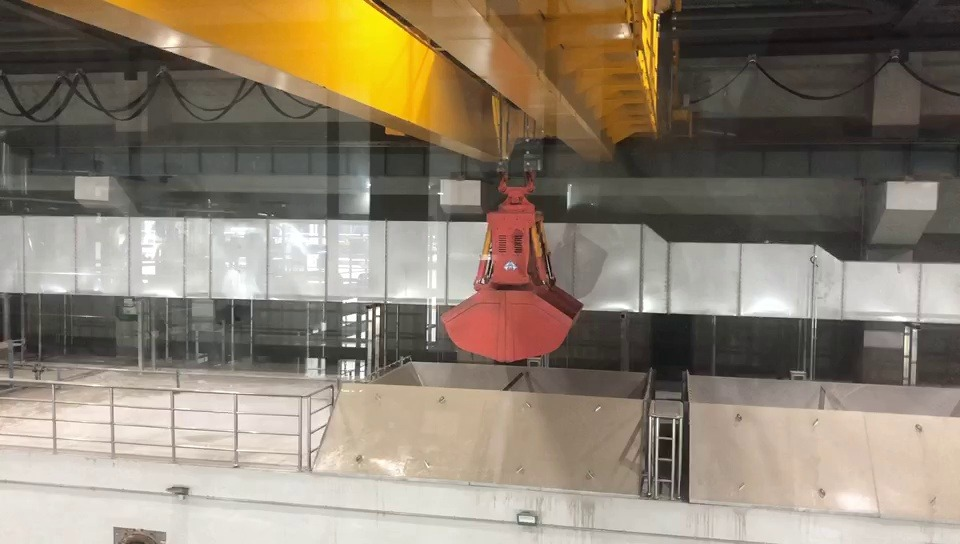grab: (436, 167, 587, 366)
